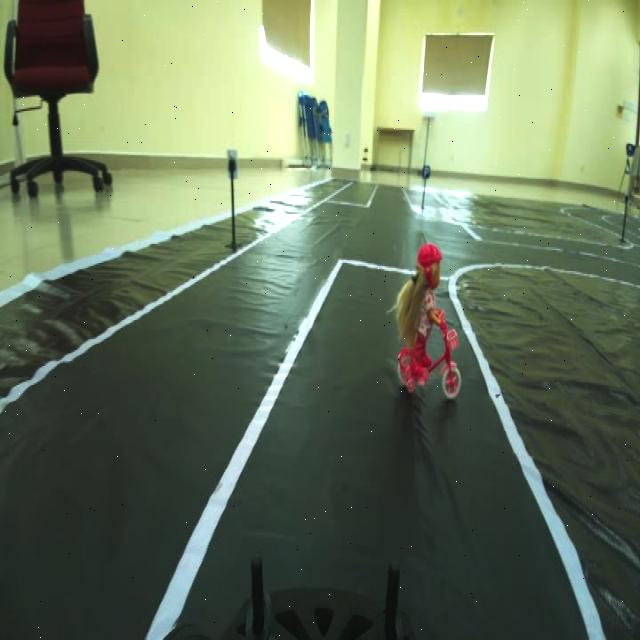pedestrian: (387, 244, 476, 418)
